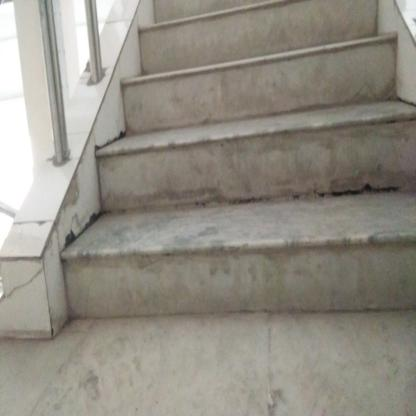stairs: (145, 38, 382, 333)
